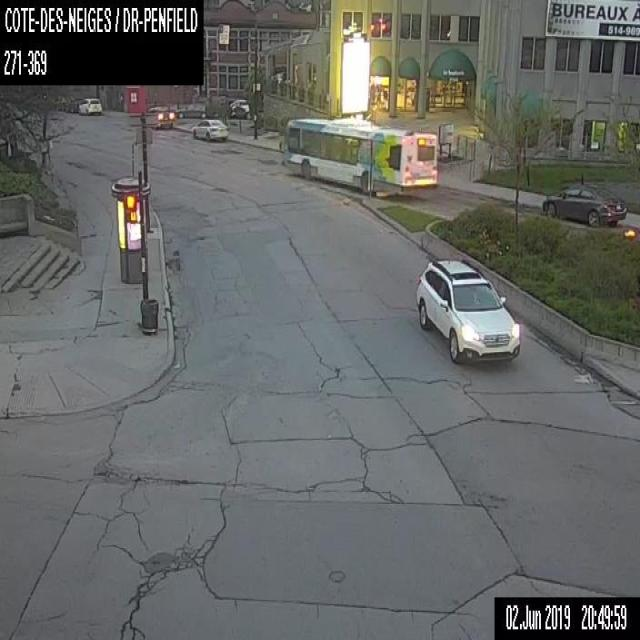bus: (278, 114, 436, 194)
vehicle: (415, 256, 519, 364), (541, 180, 626, 227), (191, 117, 228, 140), (78, 96, 102, 115), (228, 97, 249, 116), (174, 104, 204, 117), (64, 95, 84, 112), (157, 108, 174, 127)
